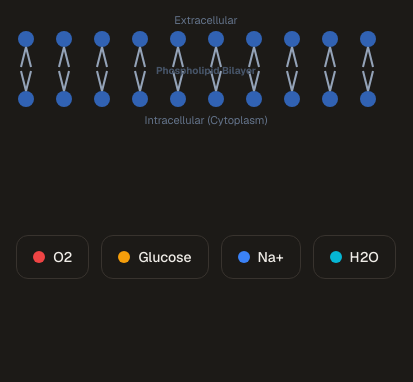
Test: CellMembrane › shows transport result when a molecule is clicked
Click the button "O2": (53, 257) [16,235,89,279]
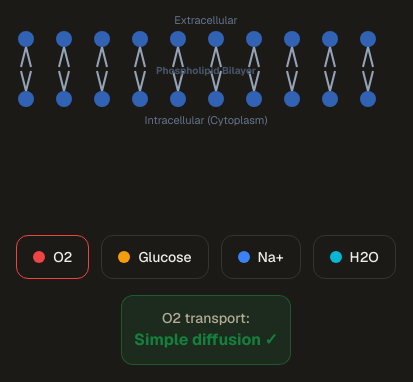
Expected: the text "Simple diffusion ✓" is shown, [134,328,278,352]
